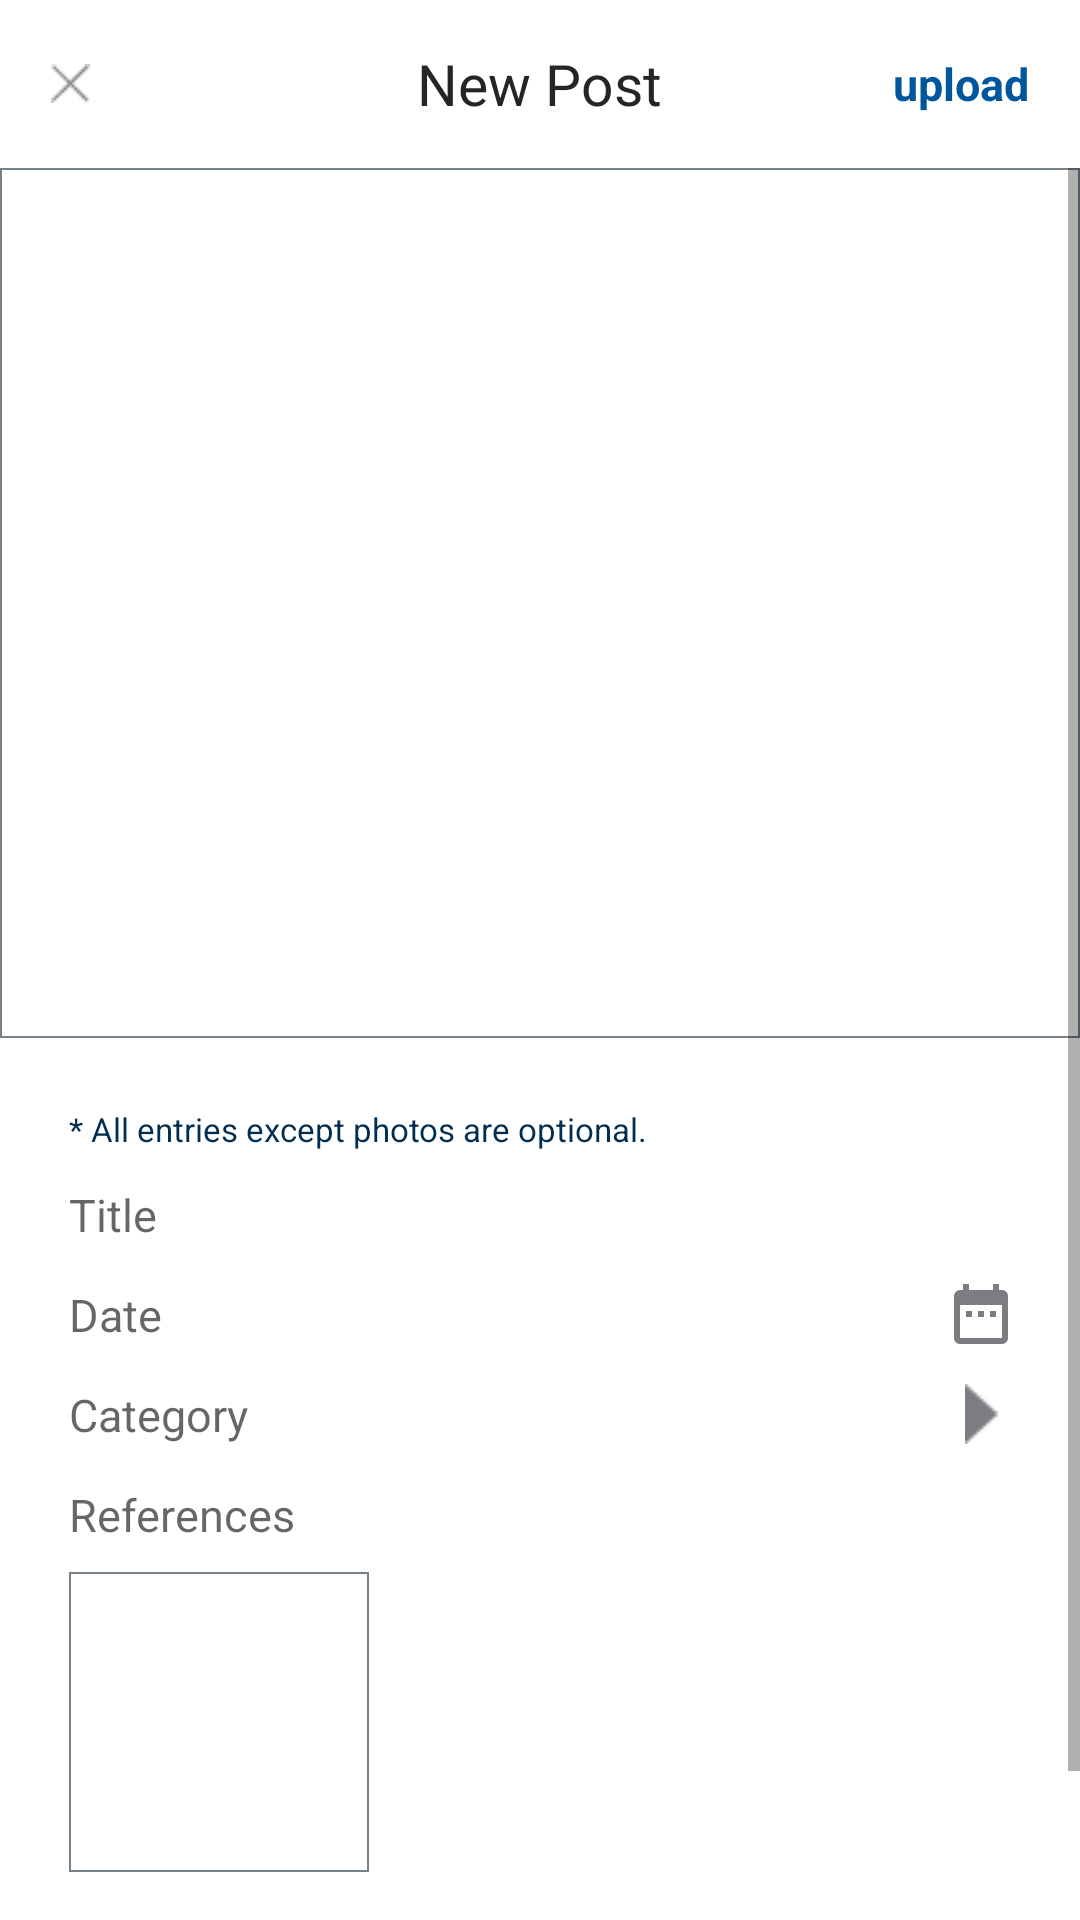

Locate icon controls on the screen. Image size 1080 × 1920, boxes as box=[x1, y1, x2, y2].
close: box=[51, 64, 90, 103]
date: box=[954, 1284, 1008, 1344]
right: box=[965, 1384, 998, 1444]
